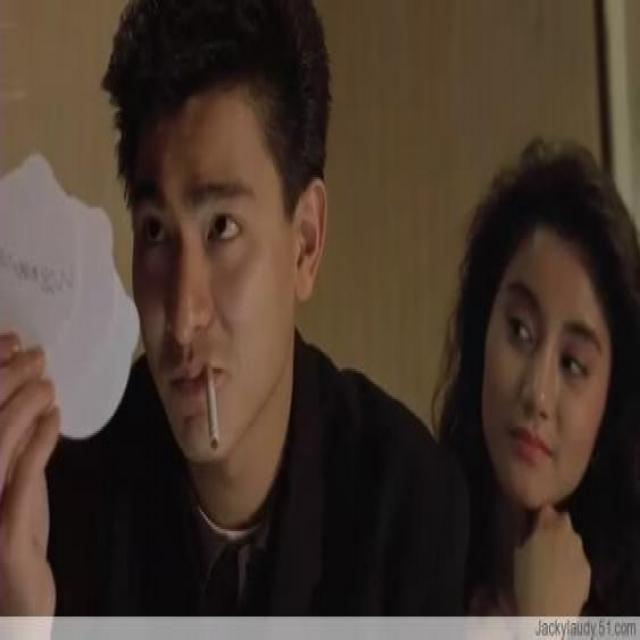smoke: (200, 360, 223, 454)
